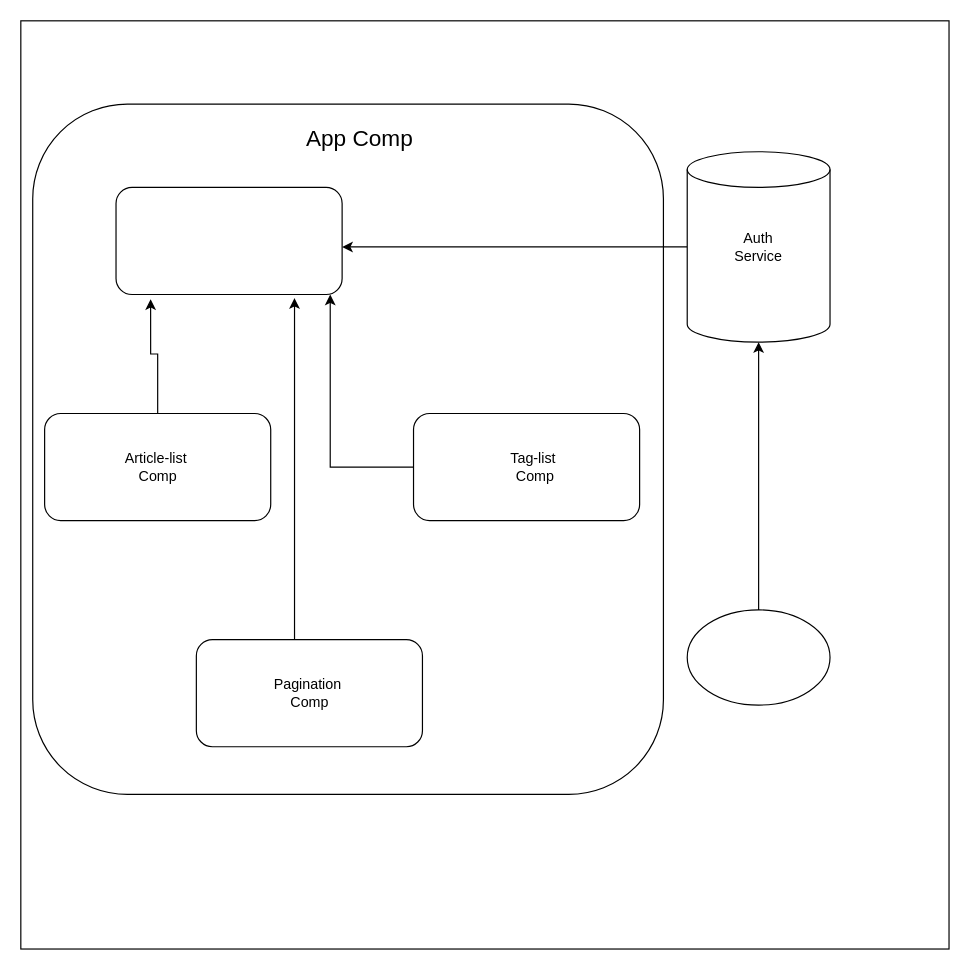
This 970x970 diagram has some shape labels left out. Here are the shapes that lost their labels. From the top down, the centre of each, then its label:
At point 228,240: "Header Comp".
At point 758,657: "User Model".
